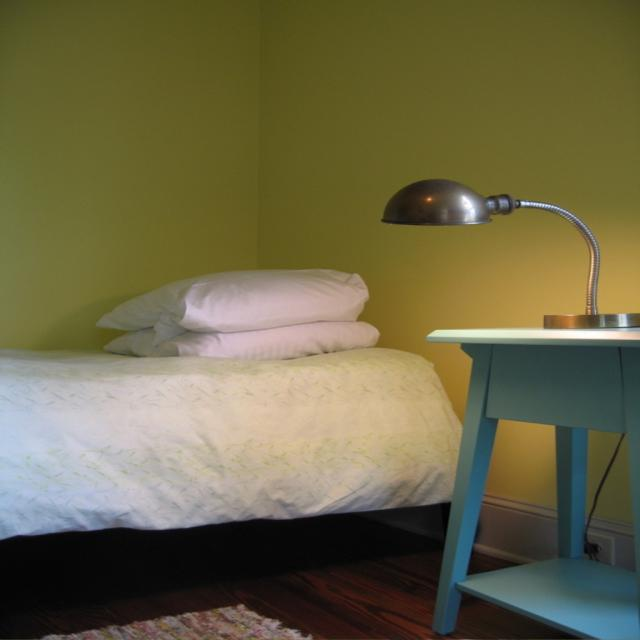Table: (435, 307, 611, 604)
